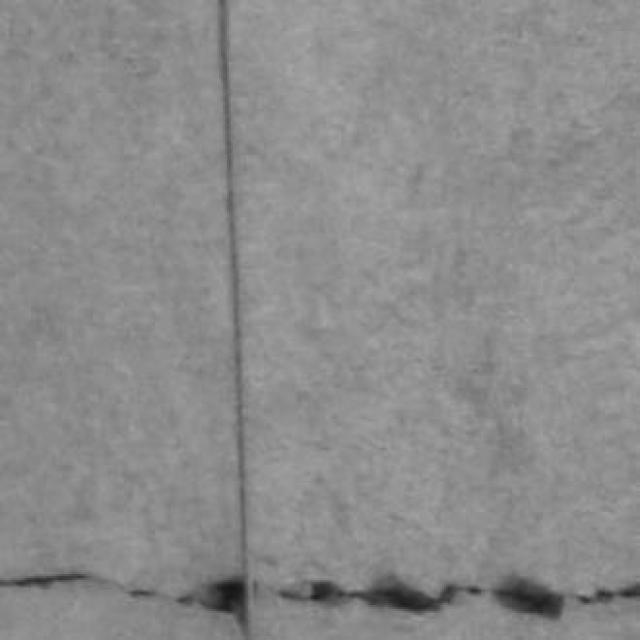crack: (276, 575, 639, 620), (280, 575, 639, 620), (0, 573, 244, 620), (493, 576, 564, 618)
